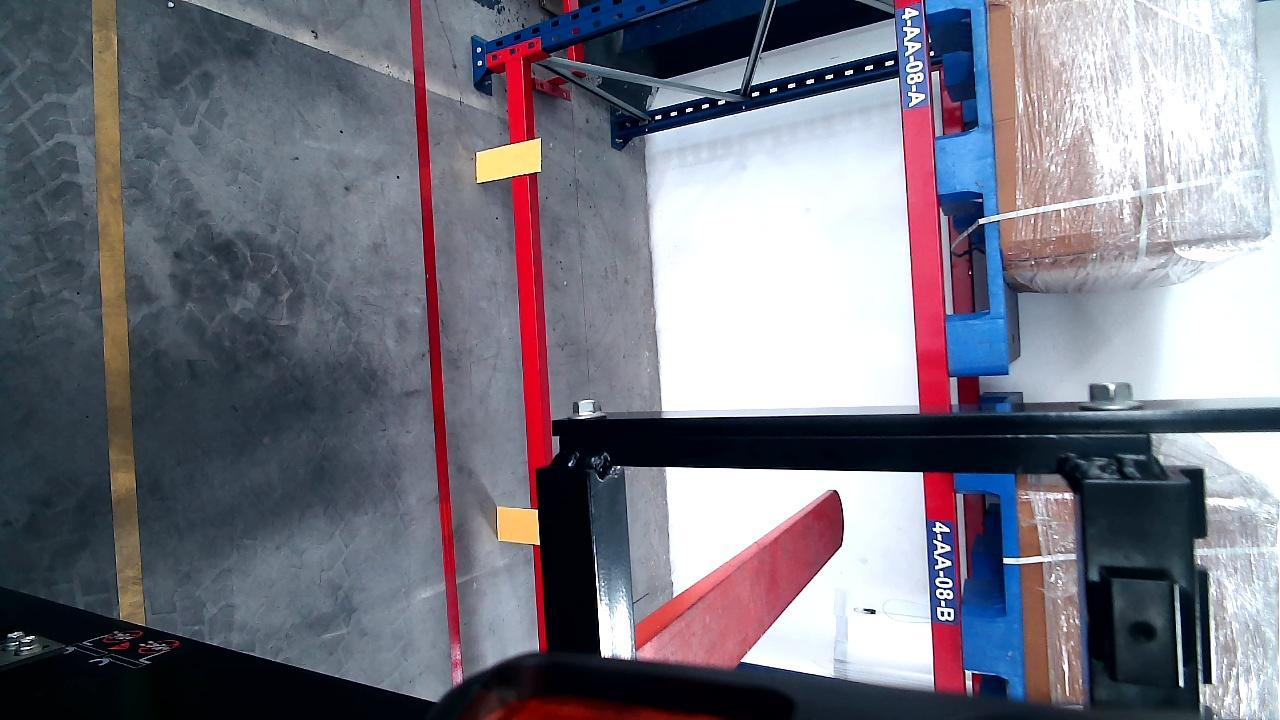yellow_line: (90, 0, 146, 626)
